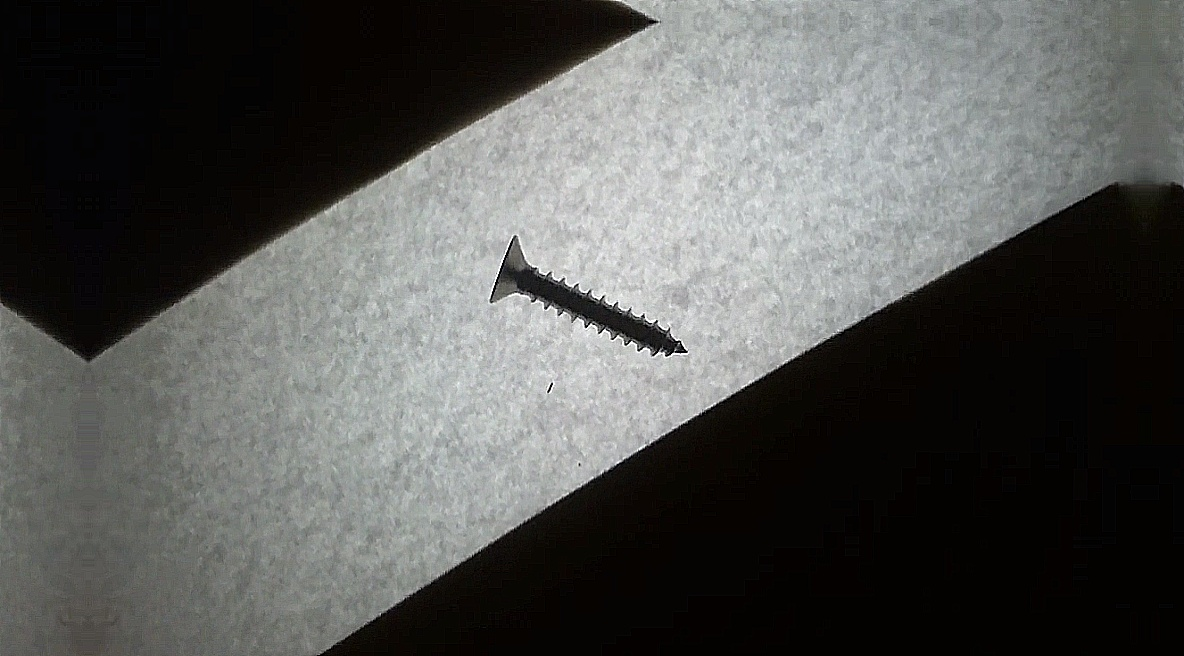S001: (474, 228, 704, 369)
